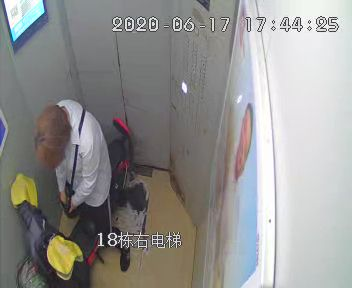Electric-bicycle: (16, 118, 128, 285)
